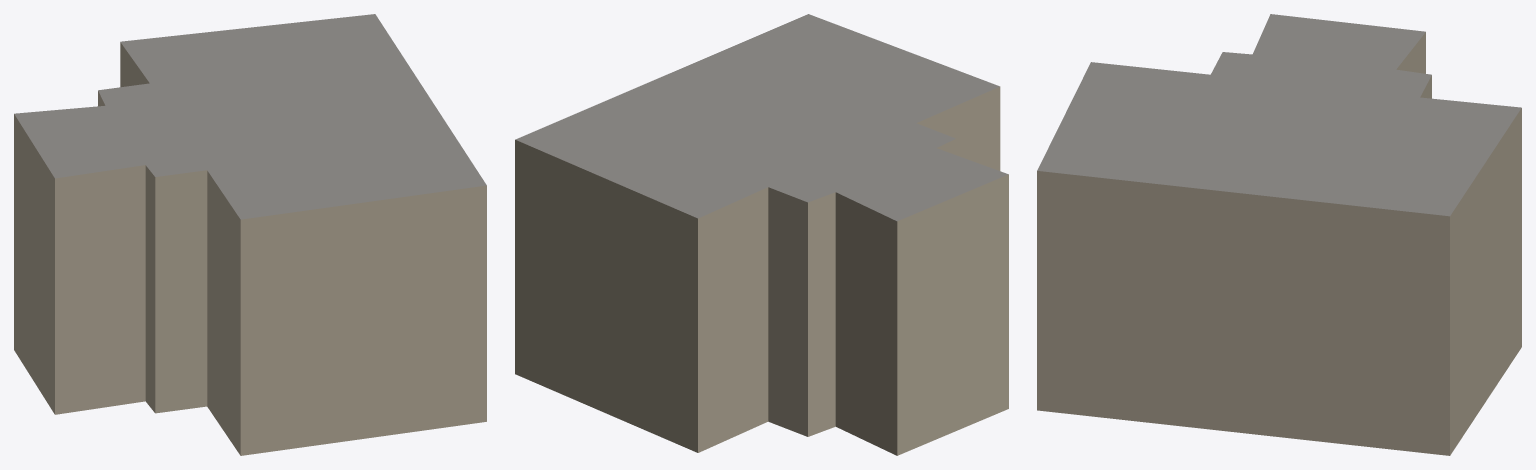
3 views of the same model, side by side, from view 1: azimuth 30°, elevation 25°; view 2: azimuth 150°, elevation 25°; view 3: azimuth 270°, elevation 25° (orthographic). The views are drawn at different scales.
Parts seen in each view (by area): view 1: tuile; view 2: tuile; view 3: tuile.
Boxes of the visible parts, x1=… form: tuile: x1=14, y1=14, x2=486, y2=455; tuile: x1=515, y1=14, x2=1008, y2=455; tuile: x1=1037, y1=14, x2=1521, y2=455.
Bounding box in the file's own units: 8 × 4.42 × 8.1.
